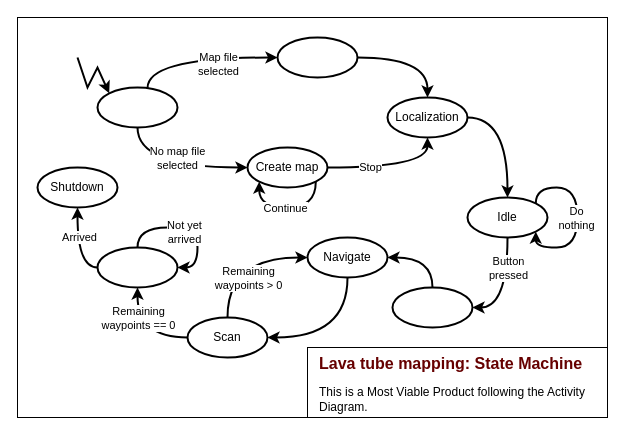
Image size: 625x438. Some labels were removed from this diagram. The shapes that lost their labels are listed below. From the top down, each one's centre as x and y in pixels, then its label:
At (x=317, y=57): "Load map".
At (x=137, y=107): "Bootup".
At (x=137, y=267): "Rebound".
At (x=432, y=307): "Mission planning".
